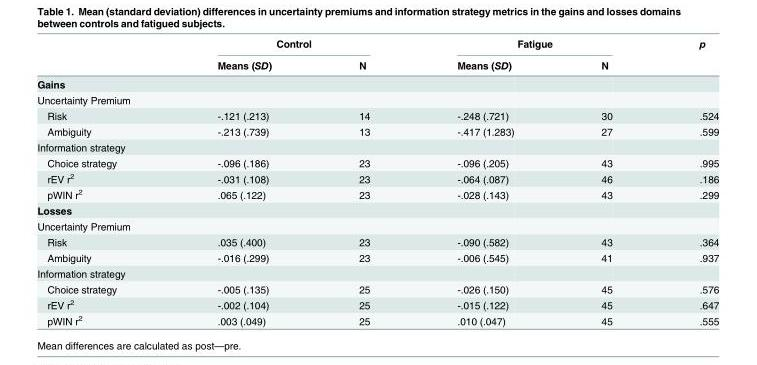table: (36, 37, 718, 326)
table column: (412, 37, 557, 326), (173, 37, 314, 326), (36, 37, 173, 326), (314, 37, 412, 326), (557, 37, 655, 326), (655, 37, 718, 326)
table column header: (36, 37, 718, 74)
table projected row header: (36, 74, 718, 91), (36, 91, 718, 107), (36, 202, 718, 218), (36, 265, 718, 281), (36, 139, 718, 154), (36, 218, 718, 233)
table row: (36, 53, 718, 74), (36, 74, 718, 91), (36, 185, 718, 202), (36, 37, 718, 53), (36, 91, 718, 107), (36, 107, 718, 123), (36, 123, 718, 139), (36, 169, 718, 185), (36, 202, 718, 218), (36, 233, 718, 249), (36, 249, 718, 265), (36, 265, 718, 281), (36, 139, 718, 154), (36, 154, 718, 169), (36, 218, 718, 233), (36, 281, 718, 296), (36, 296, 718, 311), (36, 311, 718, 326)
table spanning cell: (412, 37, 655, 53), (173, 37, 412, 53), (655, 37, 718, 74)
